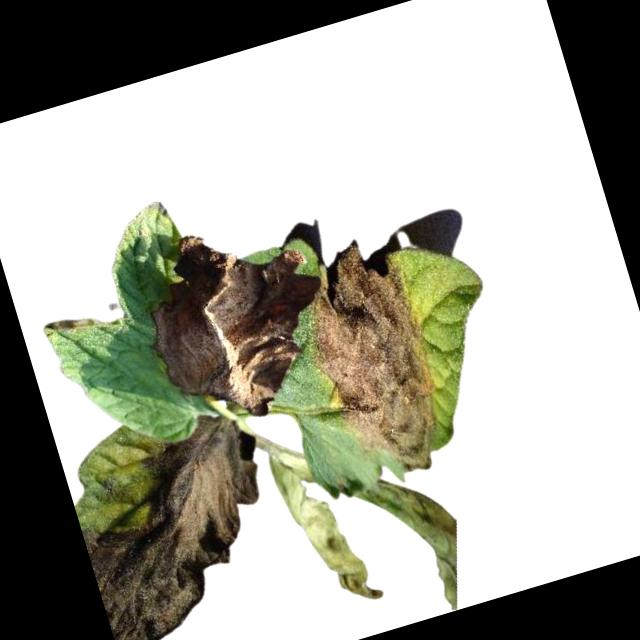Late_blight: (61, 406, 309, 640), (123, 202, 344, 443), (283, 231, 458, 493), (267, 441, 381, 617), (370, 469, 480, 624)
